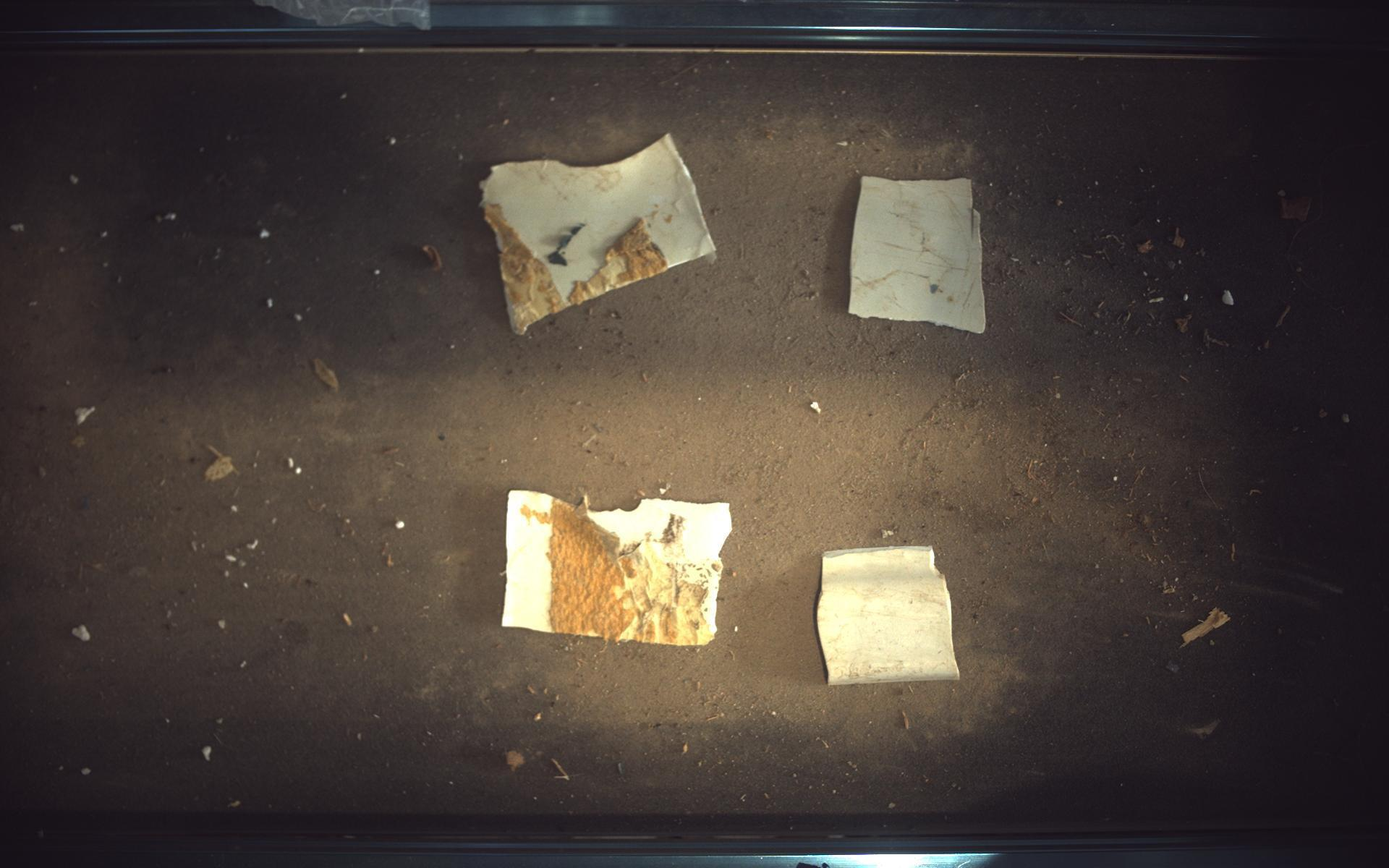plastic: (480, 133, 716, 334), (503, 491, 732, 646), (851, 176, 987, 333), (818, 548, 961, 686)
